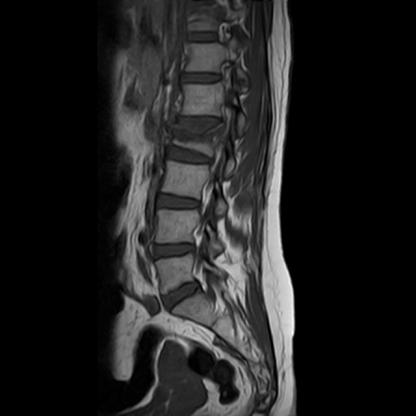Annular Tearrotation: (157, 281, 211, 310)
Fracturerotation: (161, 113, 236, 168)
